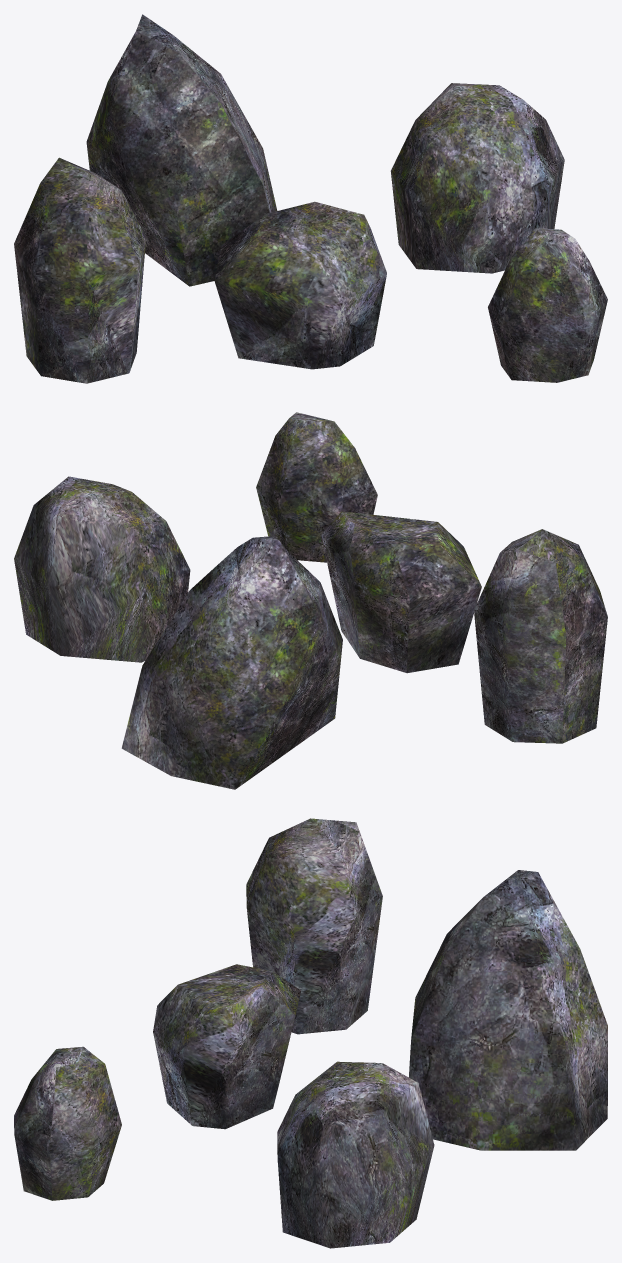
File: cairn_02_03_re.fbx
3 views of the same model, one above another, from view 1: azimuth 30°, elevation 25°; view 2: azimuth 150°, elevation 25°; view 3: azimuth 270°, elevation 25° (orthographic).
Parts seen in each view (by area): view 1: cairn_02_03; view 2: cairn_02_03; view 3: cairn_02_03.
Part boxes in pixels (<box>): cairn_02_03: <box>14,14,607,383</box>; cairn_02_03: <box>14,412,607,789</box>; cairn_02_03: <box>14,818,607,1248</box>.
Bounding box in the file's own units: 24.76 × 9.56 × 22.93.
